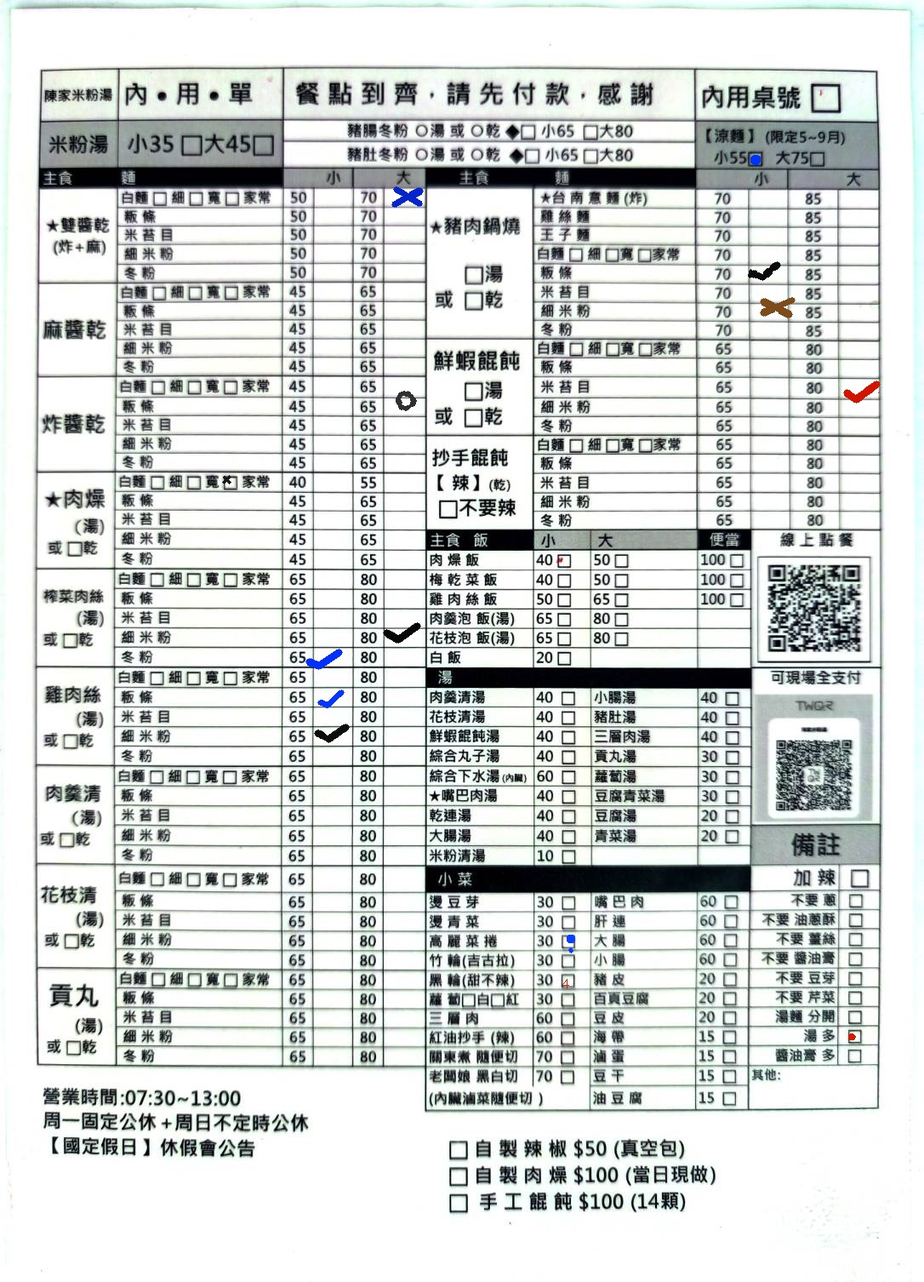marked_circle: (849, 1031, 860, 1043), (563, 937, 574, 949), (750, 152, 761, 163)
marked_hollow: (385, 398, 423, 417)
marked_number_4: (562, 976, 573, 987)
marked_tick: (386, 628, 424, 648), (313, 726, 351, 746), (750, 266, 787, 286), (316, 687, 353, 707), (841, 379, 878, 398), (314, 648, 351, 667)
marked_x: (386, 188, 424, 208), (750, 302, 787, 322), (223, 476, 234, 488)
